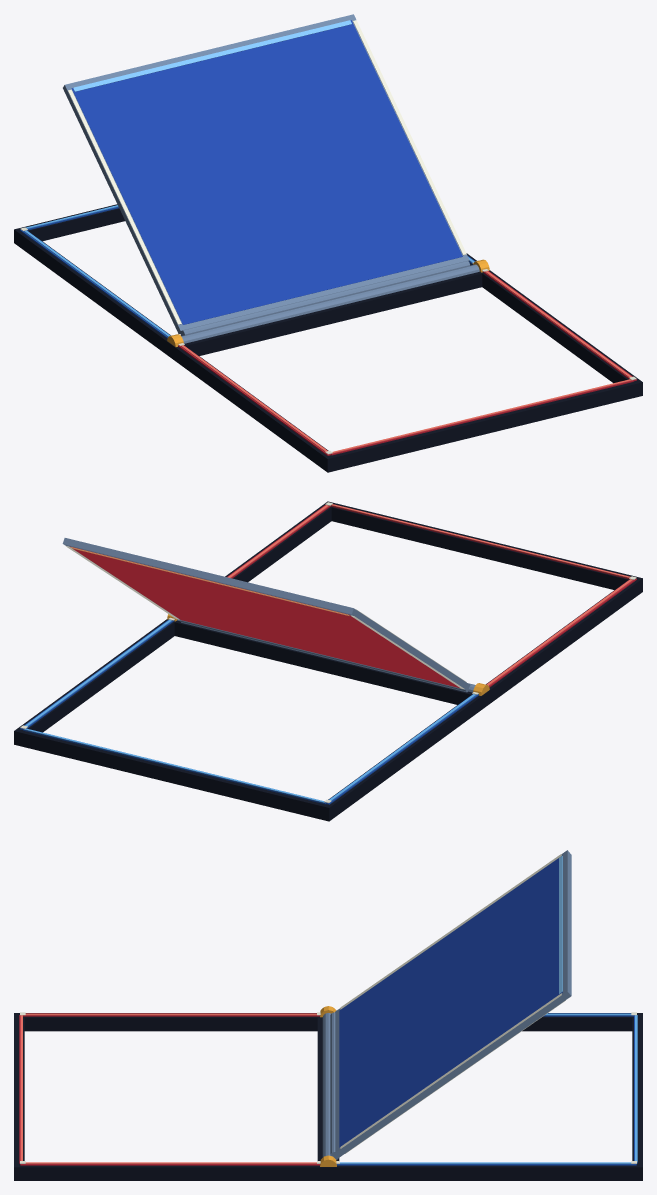
Rendered from jump_flip_pair_flip_05.obj.
The picture shows the model from 3 angles, top to bottom: view 1: azimuth 30°, elevation 25°; view 2: azimuth 150°, elevation 25°; view 3: azimuth 270°, elevation 25°; orthographic projection.
Visible parts, largest first — view 1: blue_top, red_end_shell, red_side_shell, reversible_leaf, blue_side_shell, hinge_axle, blue_side_trim, red_border, leaf_hinge, red_rim_light, blue_end_shell, blue_end_bar (+2 smaller); view 2: red_bottom, blue_end_shell, blue_side_shell, red_end_shell, red_side_shell, reversible_leaf, blue_rim_light, blue_border, red_rim_light, red_border, leaf_hinge, red_side_trim (+1 smaller); view 3: blue_top, red_side_shell, blue_side_shell, reversible_leaf, red_end_shell, red_rim_light, red_border, blue_side_trim, blue_end_shell, hinge_axle, blue_rim_light, blue_border (+2 smaller).
Part boxes in pixels (box(x1,y1,x2,y2)): blue_top: box(71, 20, 462, 324); red_end_shell: box(172, 271, 642, 472); red_side_shell: box(171, 270, 642, 472); reversible_leaf: box(63, 14, 469, 333); blue_side_shell: box(14, 227, 476, 353); hinge_axle: box(181, 264, 479, 343); blue_side_trim: box(68, 20, 466, 324); red_border: box(178, 271, 636, 455); leaf_hinge: box(180, 260, 470, 335); red_rim_light: box(181, 271, 631, 453); blue_end_shell: box(14, 204, 170, 356); blue_end_bar: box(73, 20, 351, 91); red_bottom: box(70, 546, 459, 687); blue_end_shell: box(14, 620, 484, 821); blue_side_shell: box(14, 619, 485, 821); red_end_shell: box(324, 502, 642, 703); red_side_shell: box(225, 501, 642, 704); reversible_leaf: box(62, 538, 469, 690); blue_rim_light: box(24, 620, 475, 802); blue_border: box(20, 619, 478, 804); red_rim_light: box(228, 504, 632, 685); red_border: box(227, 505, 636, 687); leaf_hinge: box(180, 620, 470, 692); red_side_trim: box(66, 546, 464, 689); blue_top: box(339, 855, 562, 1147); red_side_shell: box(14, 1013, 328, 1180); blue_side_shell: box(328, 1013, 642, 1180); reversible_leaf: box(335, 850, 571, 1157); red_end_shell: box(14, 1013, 327, 1180); red_rim_light: box(20, 1013, 316, 1163); red_border: box(19, 1013, 320, 1165); blue_side_trim: box(340, 854, 561, 1148); blue_end_shell: box(329, 1013, 642, 1180); hinge_axle: box(322, 1013, 331, 1157); blue_rim_light: box(340, 1013, 637, 1163); blue_border: box(336, 1013, 637, 1165).
Size of the model in its own units: 11.6 by 6.42 by 20.
